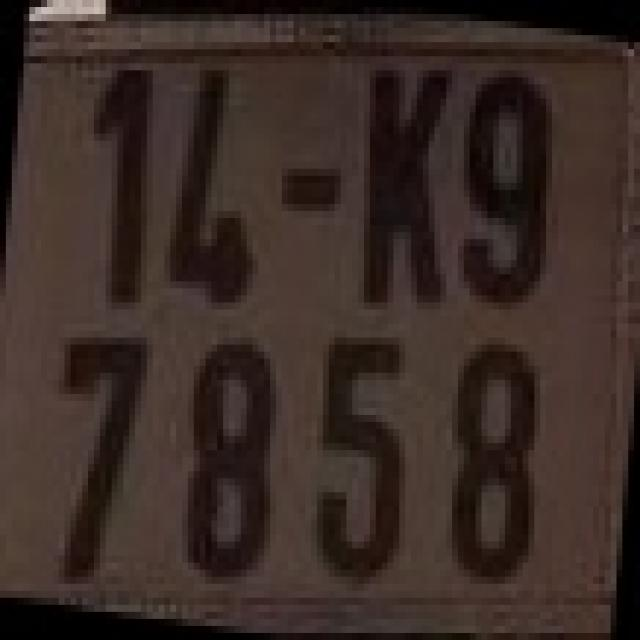1: (82, 56, 159, 310)
4: (164, 63, 258, 310)
5: (311, 331, 411, 584)
7: (47, 324, 153, 584)
8: (176, 331, 282, 584), (446, 338, 540, 584)
9: (458, 63, 552, 310)
K: (343, 60, 461, 320)
